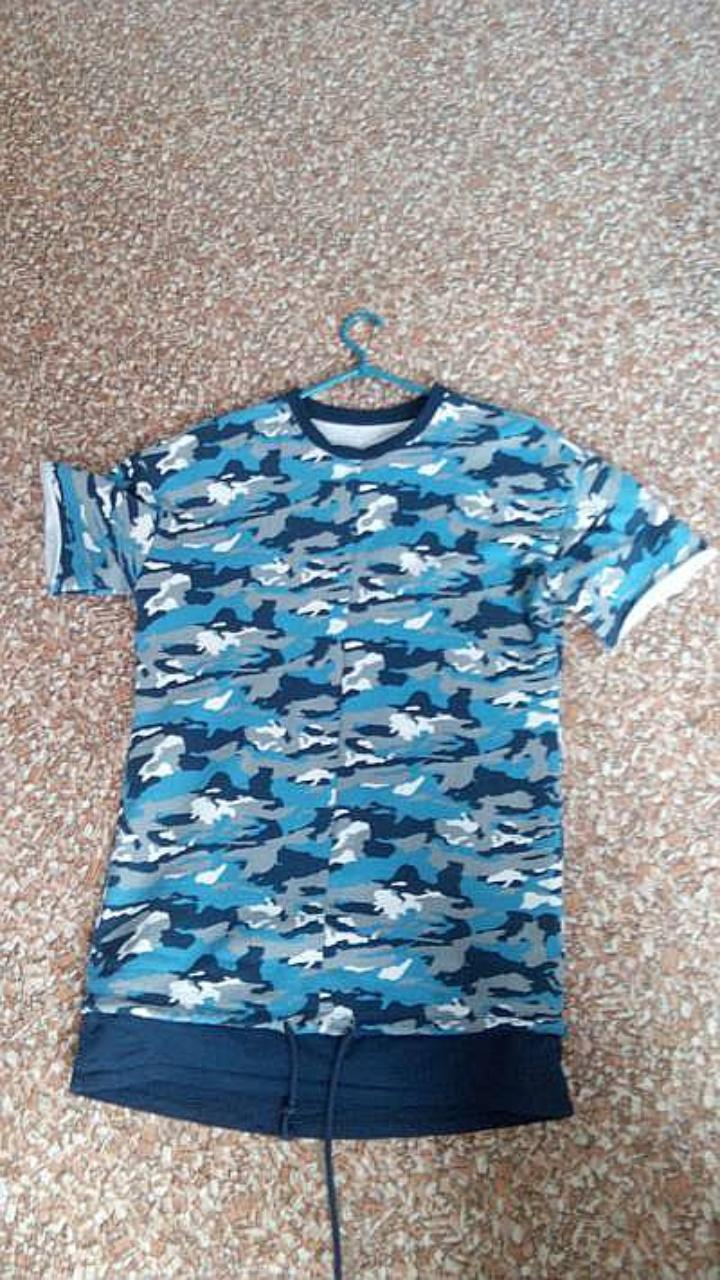T-Shirt: (40, 383, 716, 1276)
